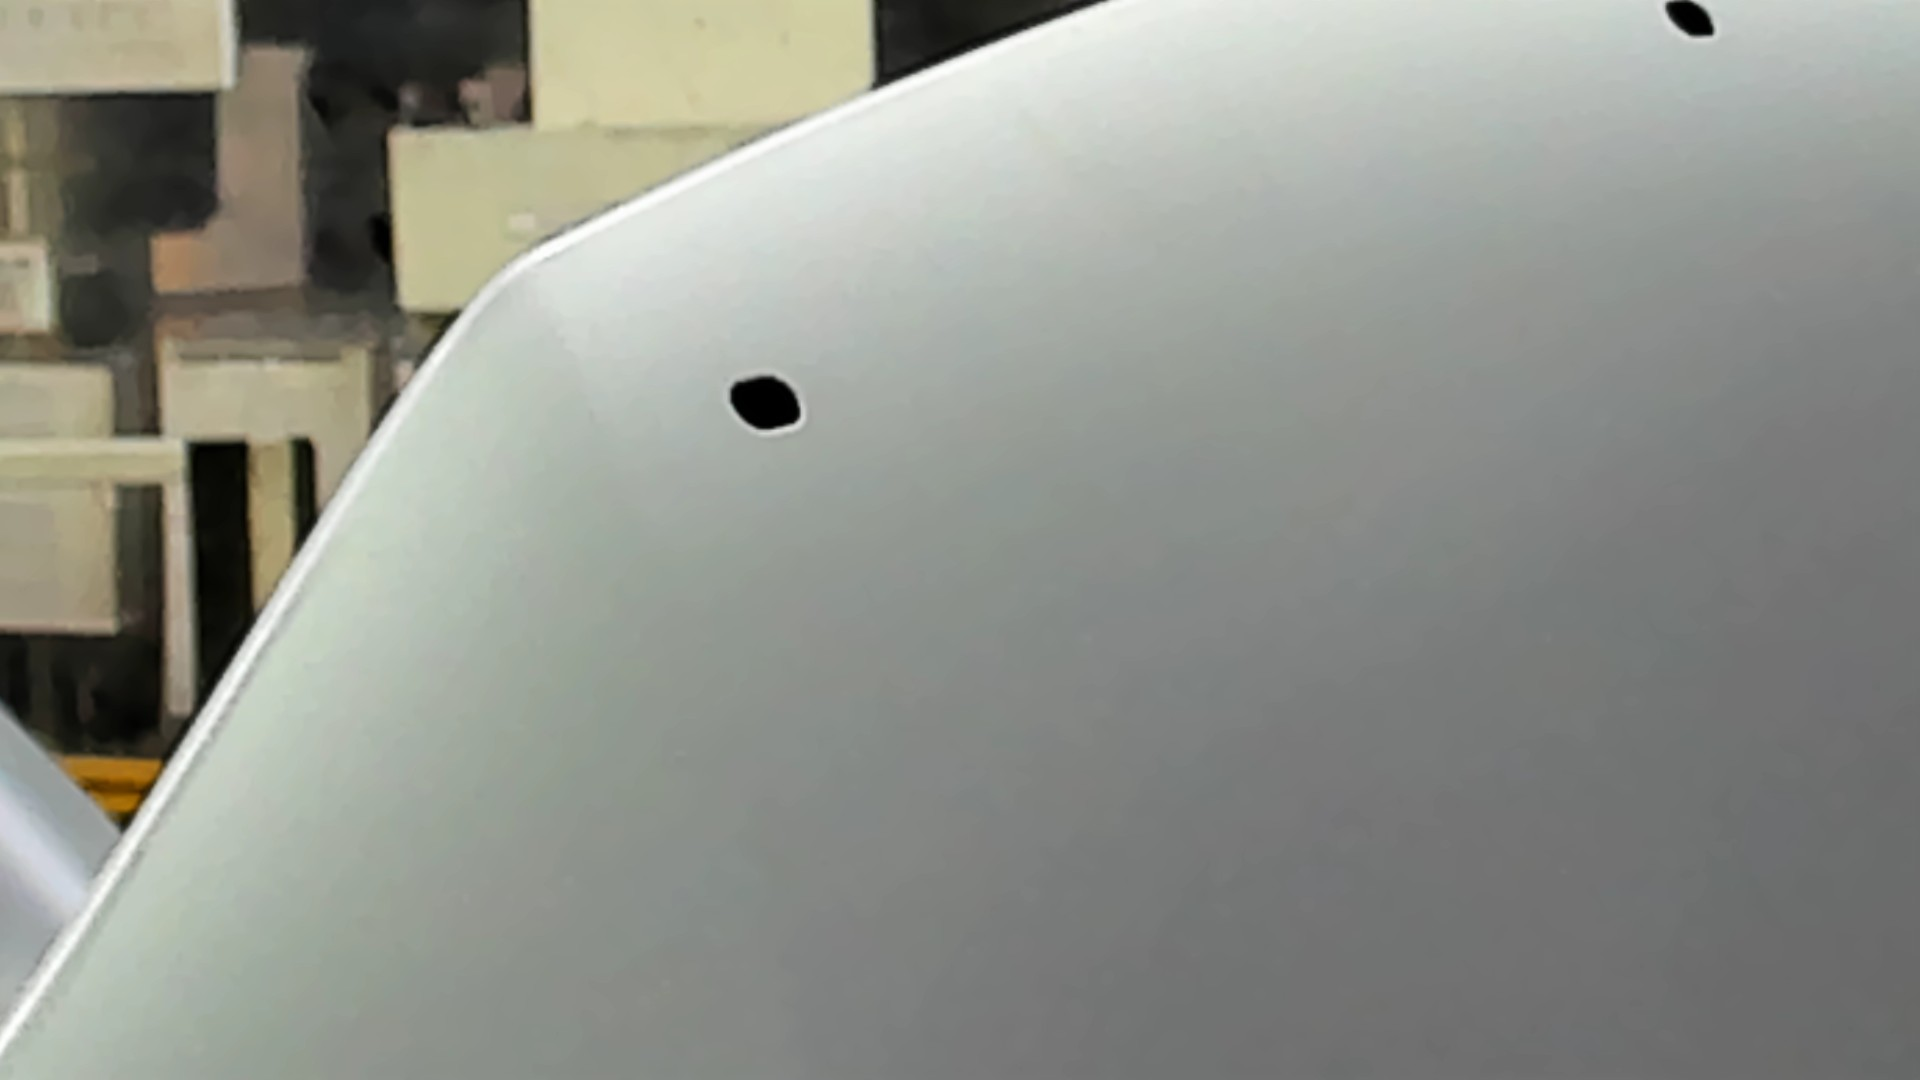amorfo: (720, 368, 810, 436), (1660, 1, 1720, 42)
